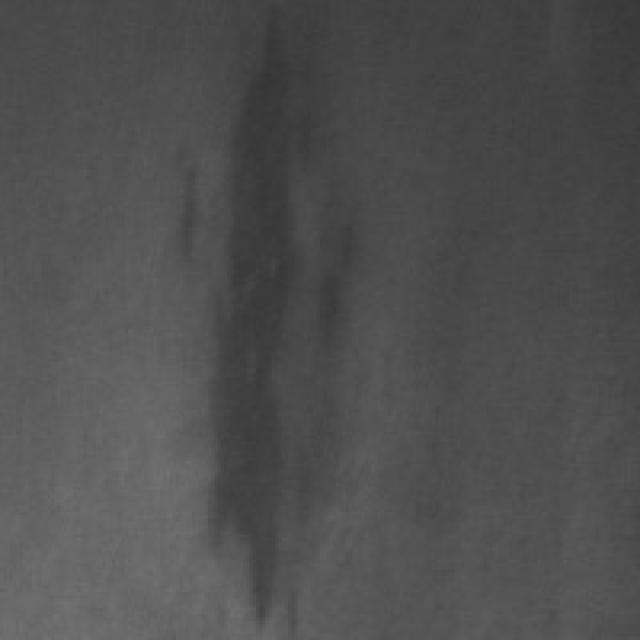inclusion: (170, 0, 339, 627)
